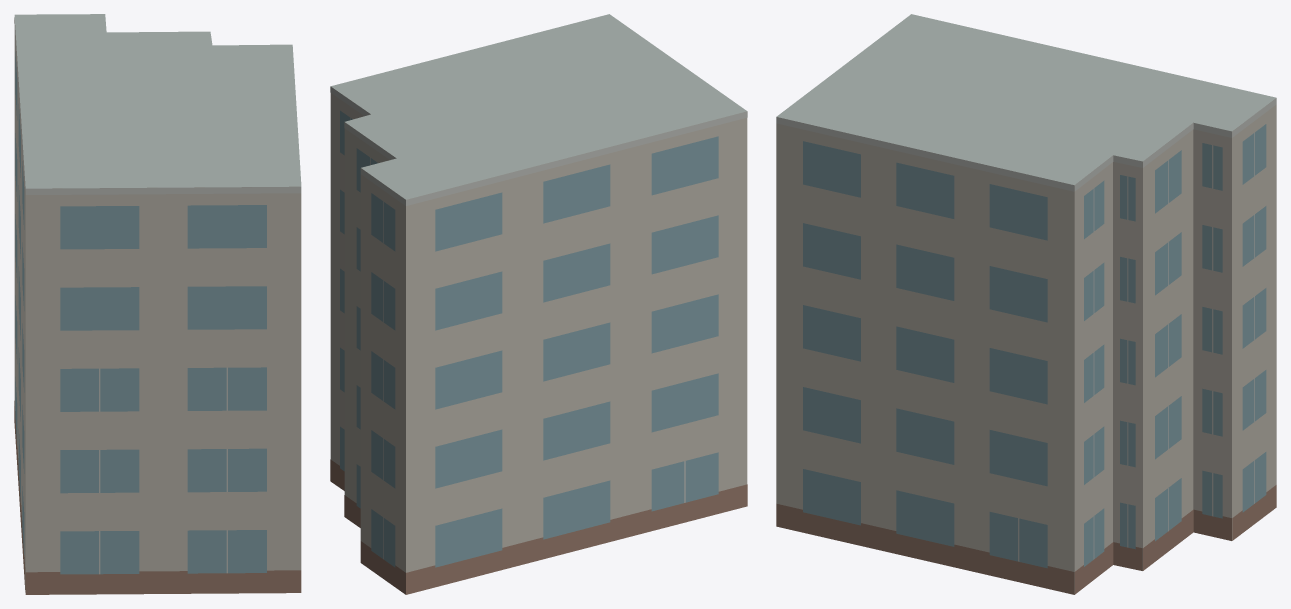
Rendered from survey-upis-32599861.glb.
3 views of the same model, side by side, from view 1: azimuth 30°, elevation 25°; view 2: azimuth 150°, elevation 25°; view 3: azimuth 270°, elevation 25° (orthographic). The views are drawn at different scales.
Parts seen in each view (by area): view 1: survey-upis-32599861.tmp; view 2: survey-upis-32599861.tmp; view 3: survey-upis-32599861.tmp.
Part boxes in pixels (box(x1,y1,x2,y2)): survey-upis-32599861.tmp: box(14, 14, 301, 594); survey-upis-32599861.tmp: box(330, 14, 747, 594); survey-upis-32599861.tmp: box(776, 14, 1276, 594).
Bounding box in the file's own units: 13.68 × 15.25 × 16.89.
